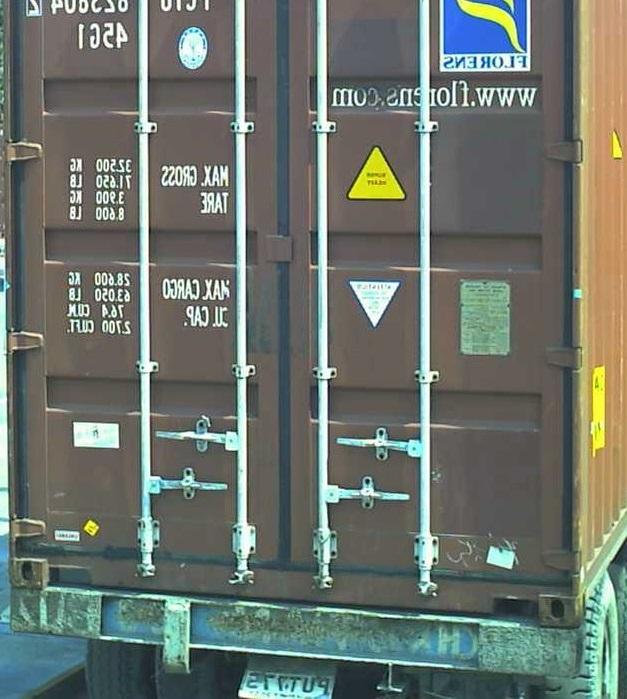container_door: (13, 1, 584, 626)
